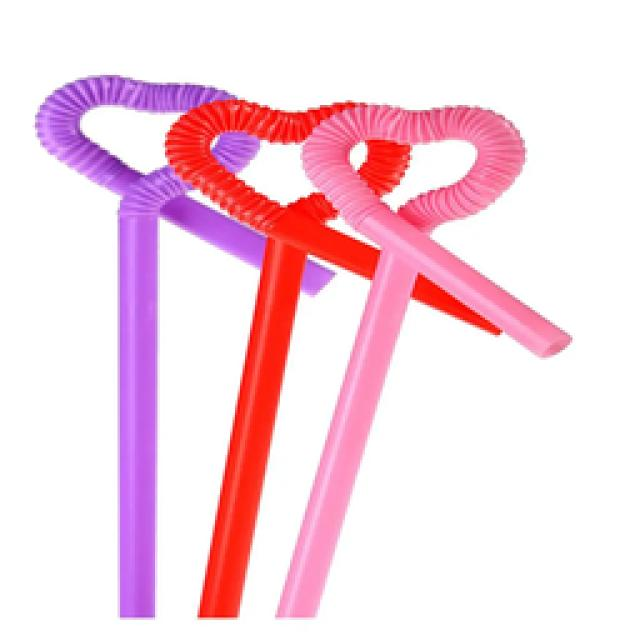plastic: (32, 72, 572, 620), (270, 100, 525, 618), (32, 72, 242, 618), (160, 98, 360, 618), (113, 170, 165, 618)
